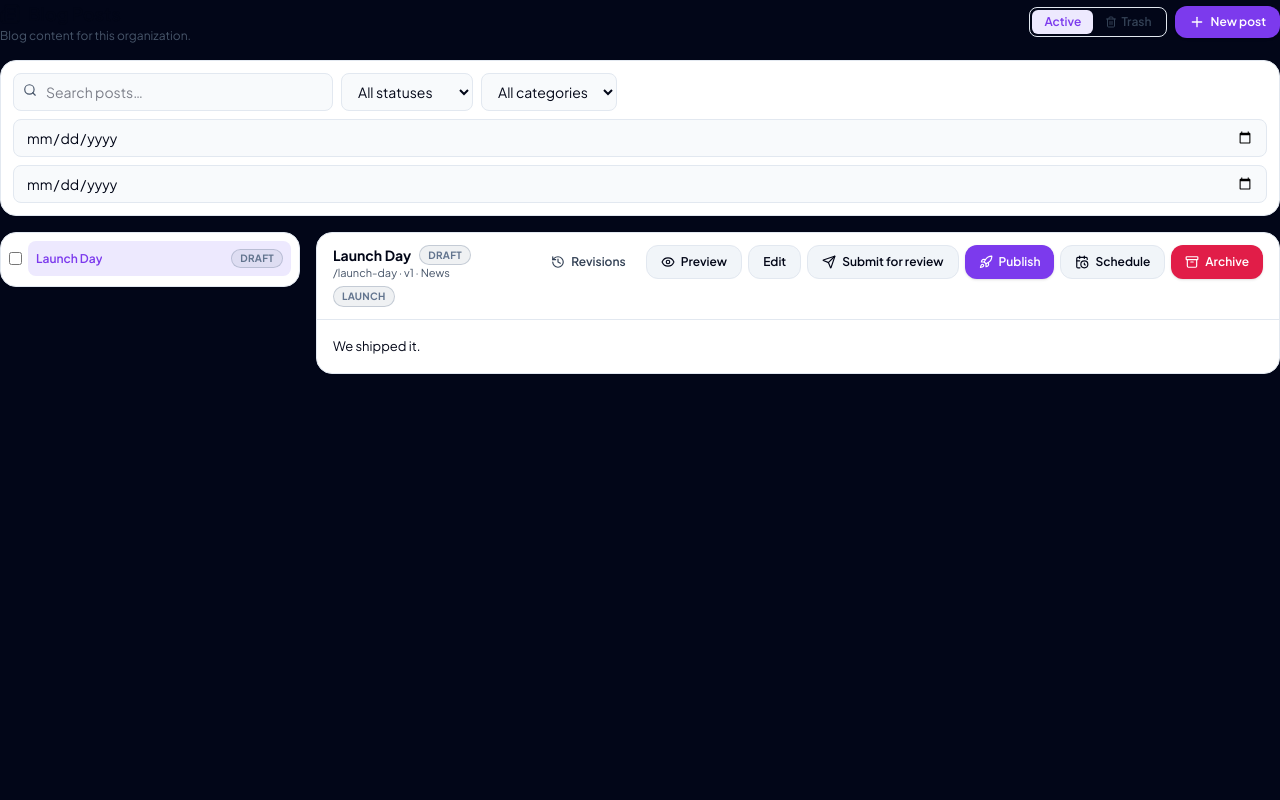
Test: PostsPage › opens Edit as a full page, and Cancel returns to the list
This screenshot has width=1280, height=800.
Later steps or results of the test are not shown.
Expected: the text "We shipped it." is shown, [333,338,420,354]
Click the button "Edit" at (775, 262), box [748,245,801,279]
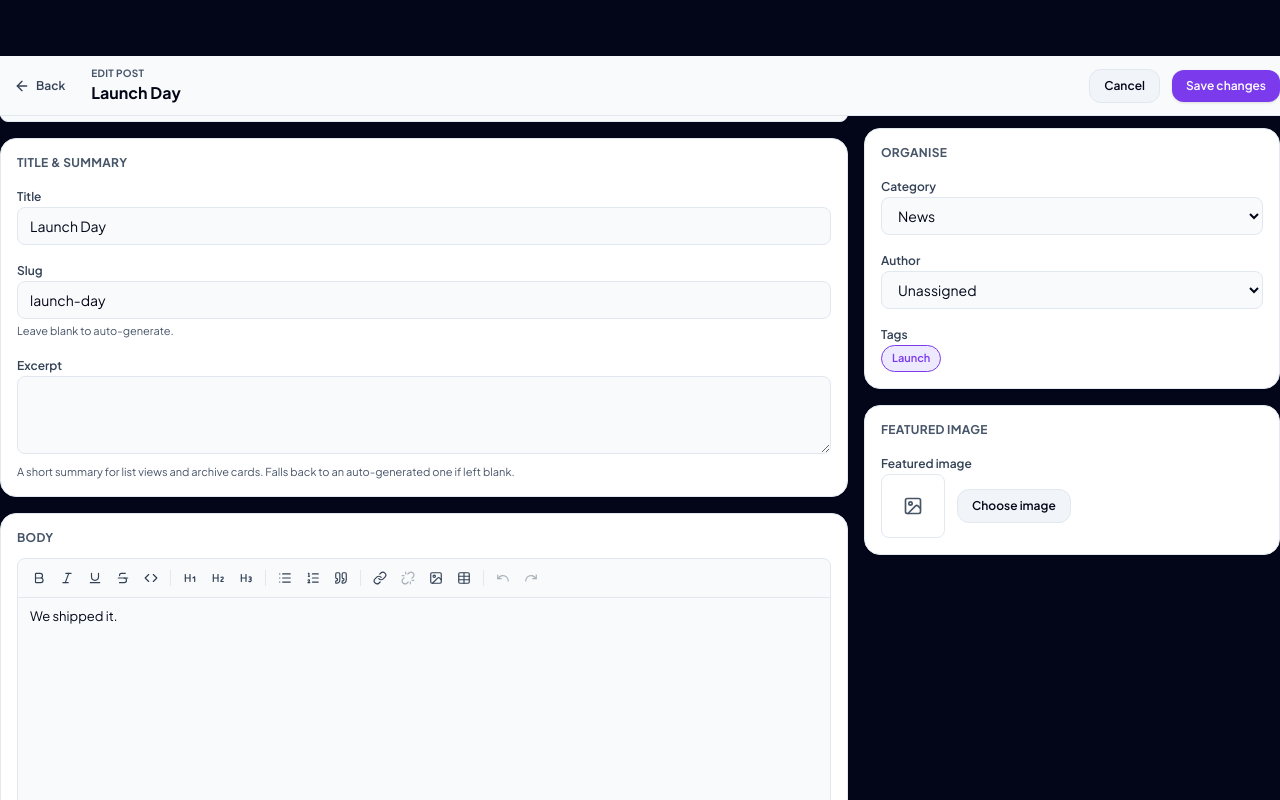
Now the text "Edit post" is shown, box [91,67,144,79]
Now the field labelled "Title" holds "Launch Day", box [17,207,831,245]
